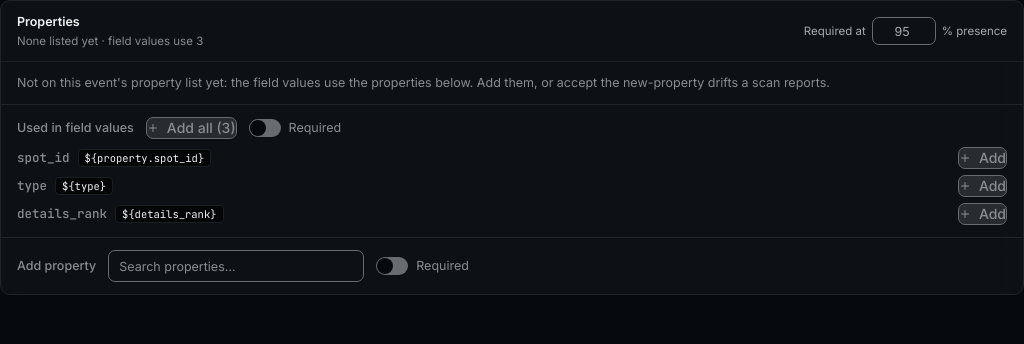
Test: EventPropertiesGrid: properties the field values use › says how far Add all got when a PUT fails, and stops there
Click the button "Add all (3)" at (191, 128), box [146,117,236,139]
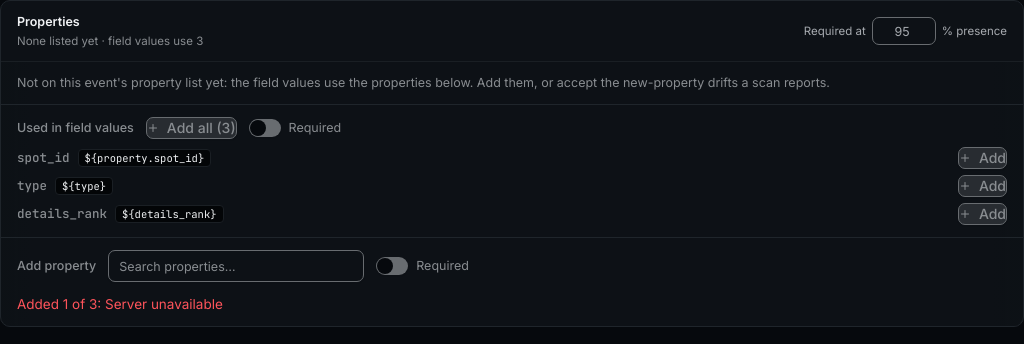
Expected: the message reads "Added 1 of 3: Server unavailable", [17,296,223,312]
Note: A later single Add clears it.
Click the button with aria-label "Add details_rank to this event" at (982, 214), box [958,203,1007,225]
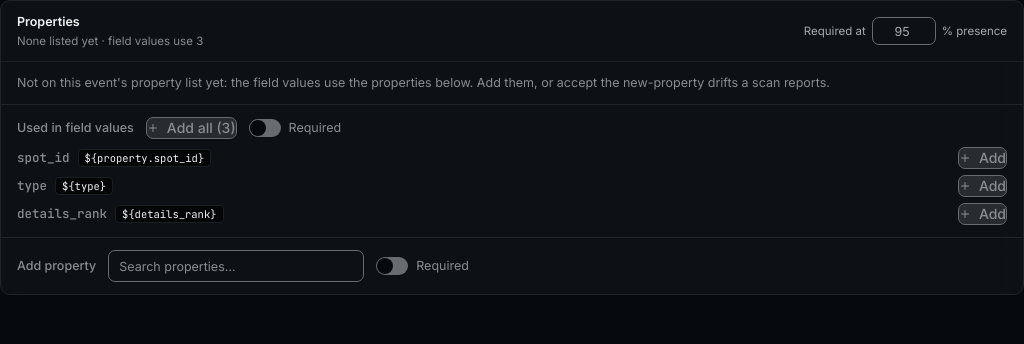
Expected: the message "Added 1 of 3: Server unavailable" is gone
